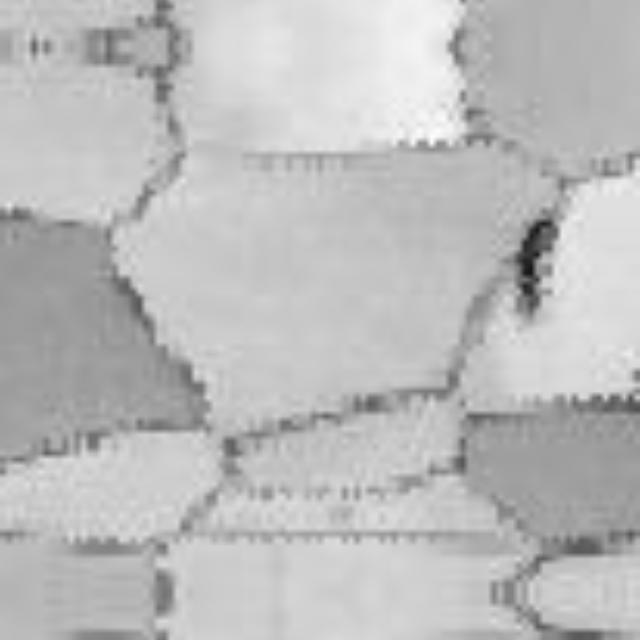good_void: (509, 208, 570, 325)
